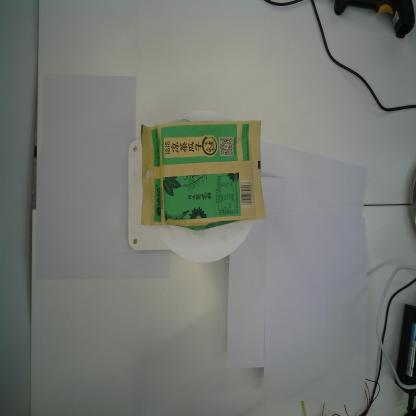Dried Food: (137, 118, 267, 228)
